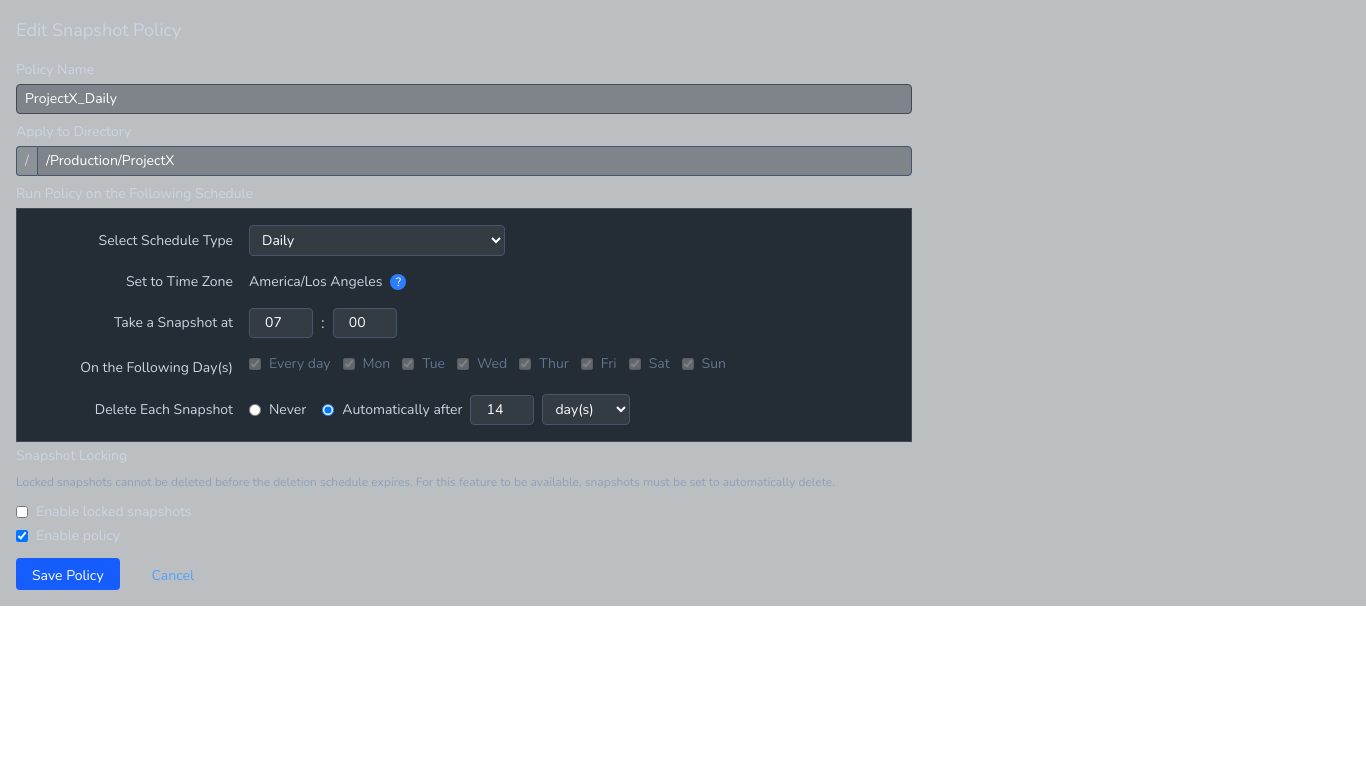
SnapshotPolicyForm › Deletion and Locking Logic › disables deletion inputs when "Never" is selected
This screenshot has width=1366, height=768.
Expected: the heading "Edit Snapshot Policy" is shown, [16,18,181,42]
// Select "Never" for deletion
Click the radio button labelled "Never" at (255, 410), box [249,404,261,416]
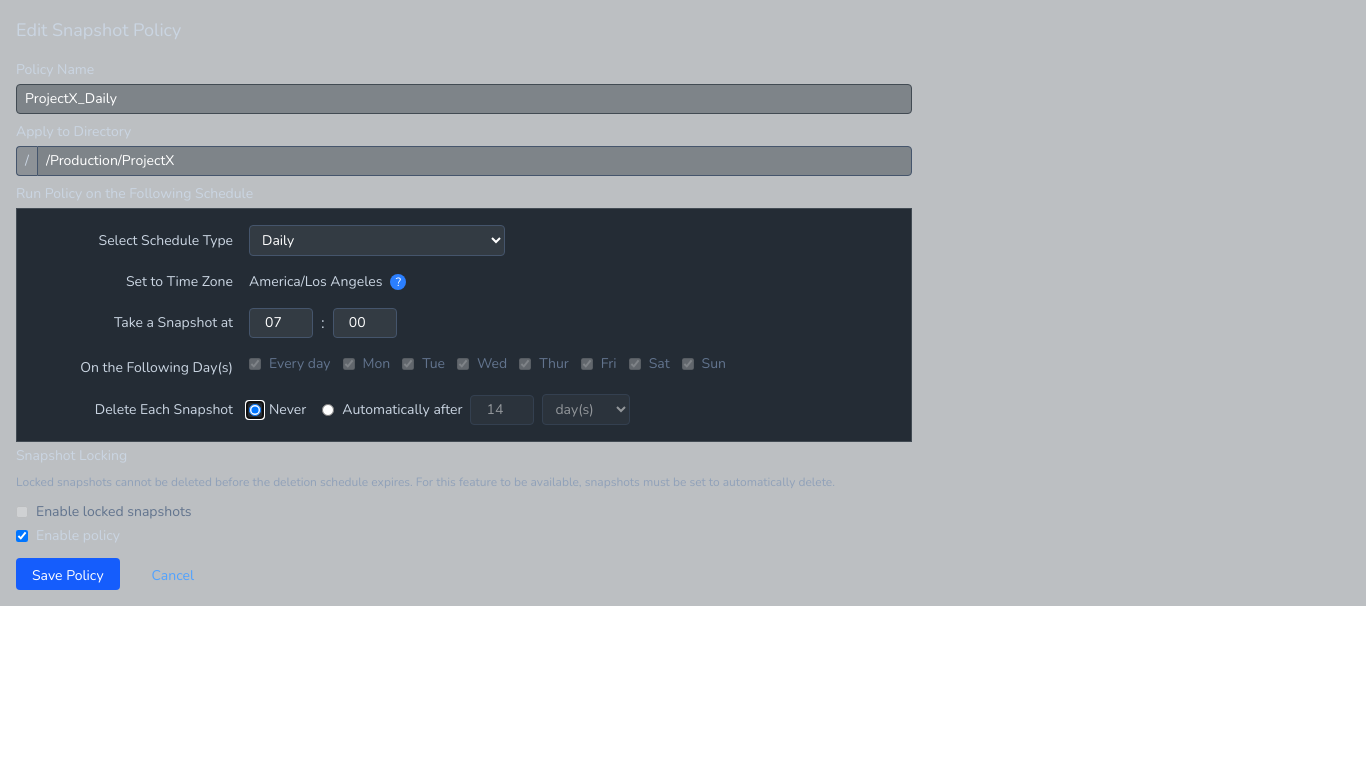
Expected: the number field showing "14" next to "Automatically after" is disabled, [470,394,534,424]
Expected: the dropdown showing "day(s)" next to "Automatically after" is disabled, [542,394,630,425]
